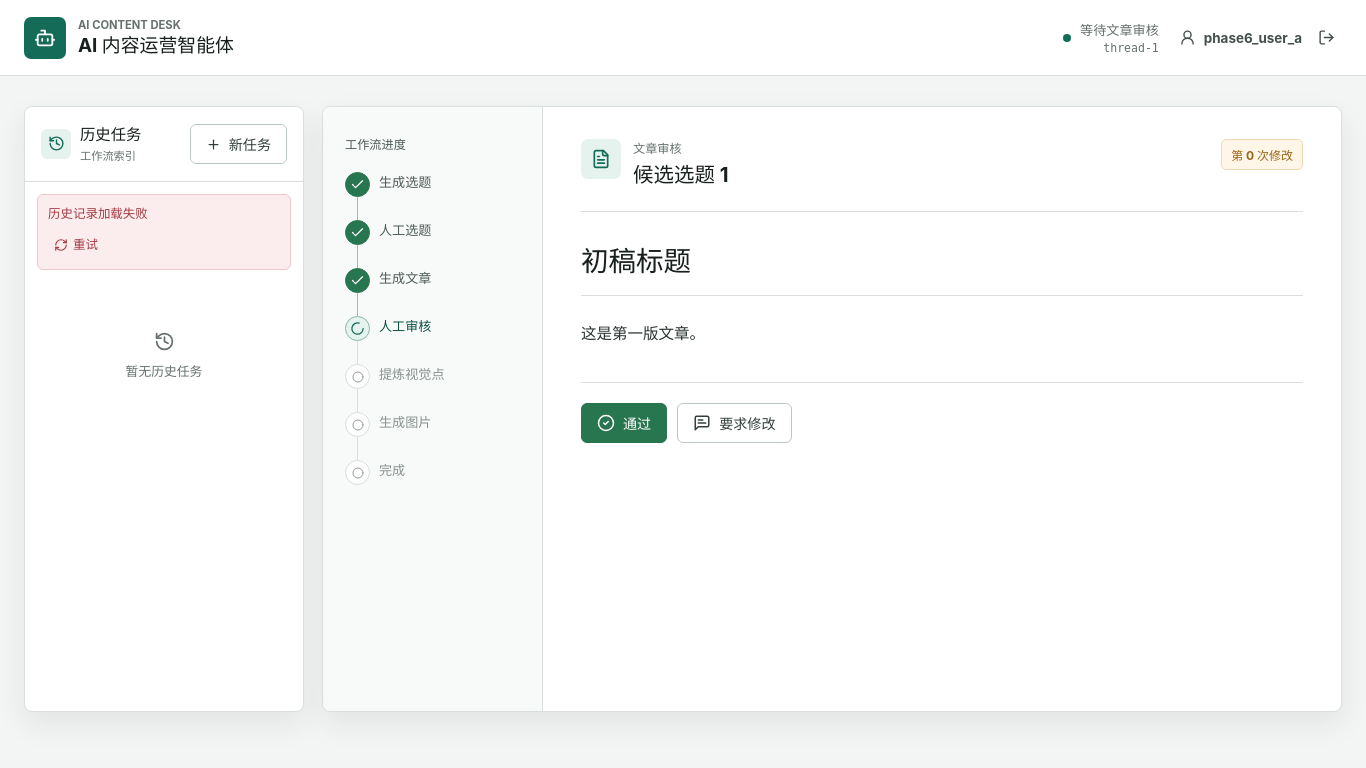
AI content workflow › keeps the active workflow usable when history loading fails
Check: the heading "初稿标题" is shown, box [581,242,1303,296]
Check: the text "历史记录加载失败" is shown, box [48,206,148,221]
Click the button "要求修改" at [734, 423], box [677,403,792,443]
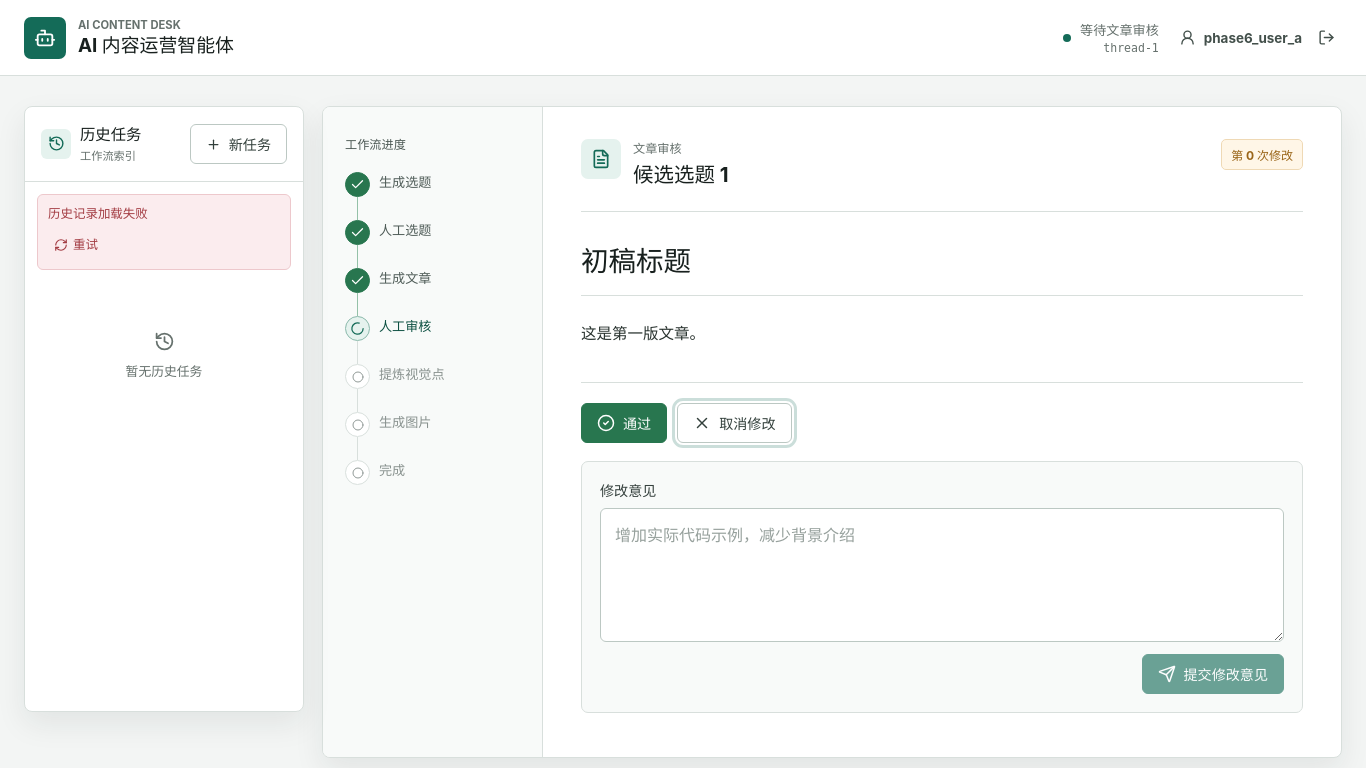
Type "继续重写" into the text box labelled "修改意见" at [942, 575], box [600,508,1284,642]
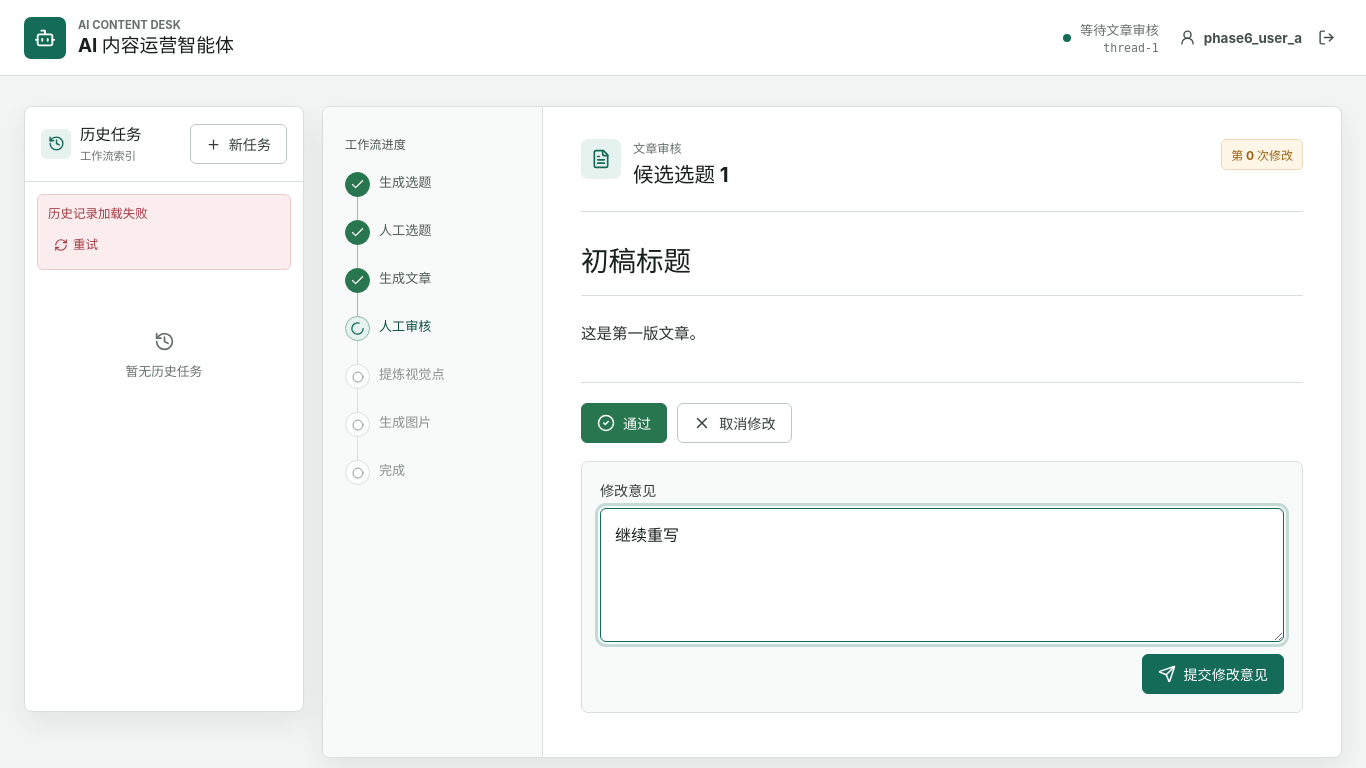
Click the button "提交修改意见" at [1213, 674], box [1142,654,1284,694]
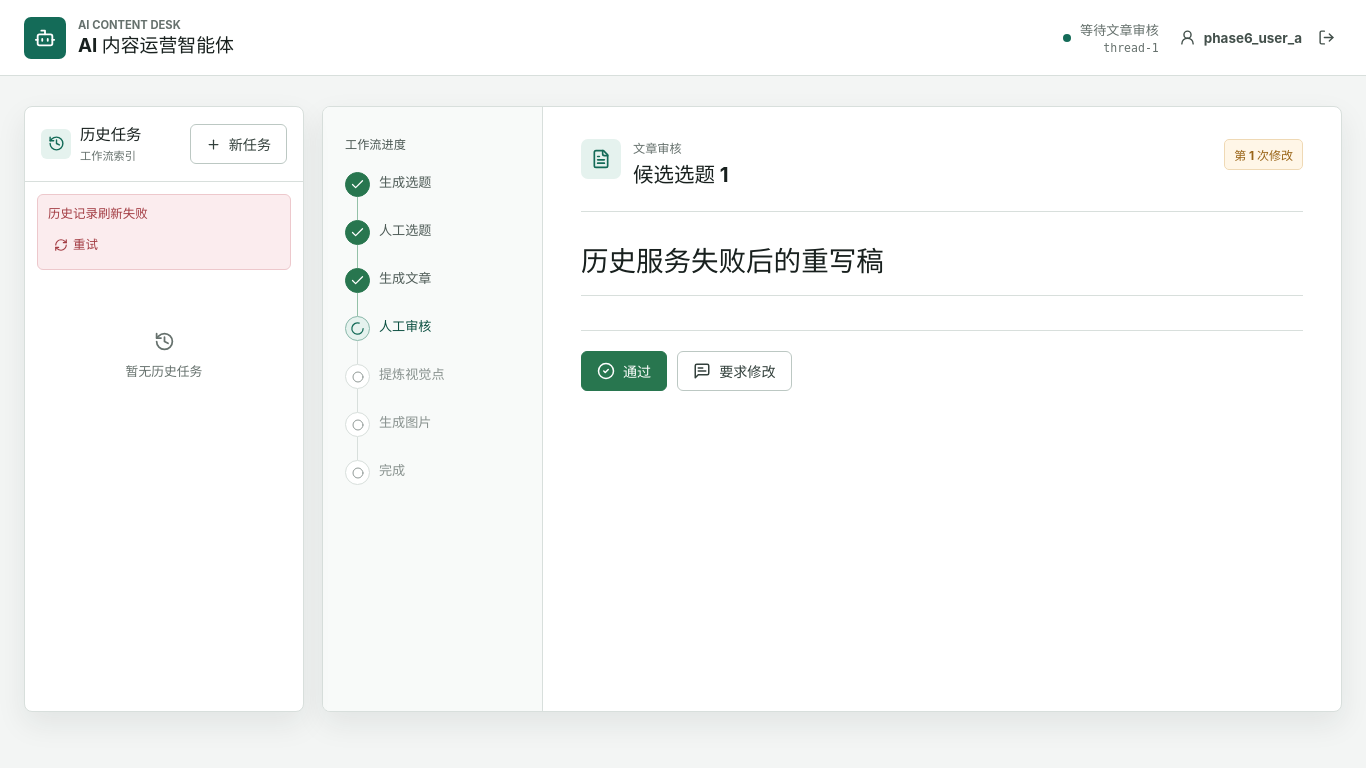
Check: the heading "历史服务失败后的重写稿" is shown, box [581,242,1303,296]
